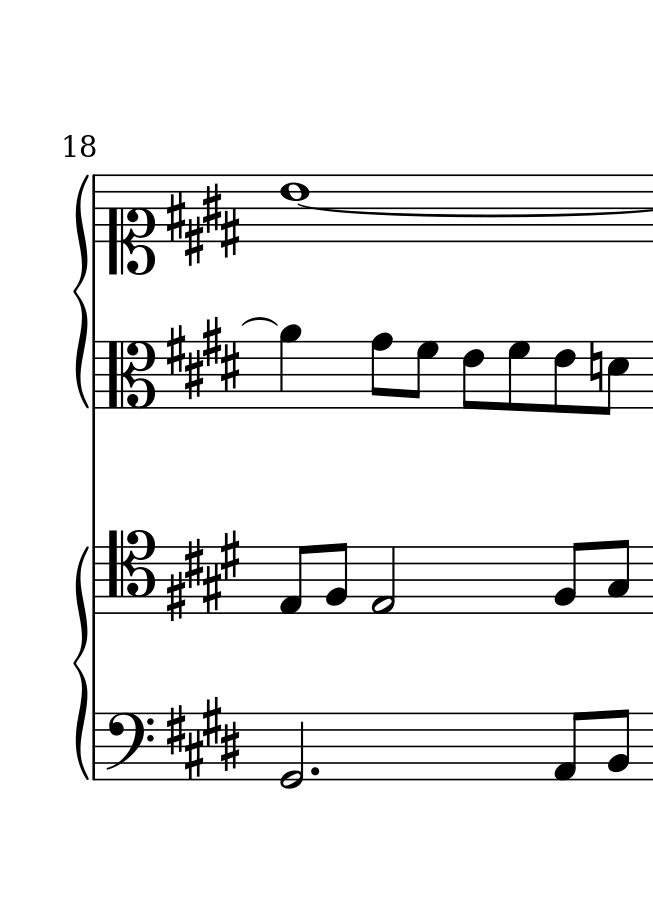1: (62, 133, 76, 159)
1_6: (279, 173, 309, 243)
2_0: (279, 711, 306, 788)
2_1: (370, 546, 398, 615)
4_9: (279, 323, 301, 409)
8: (79, 132, 96, 159)
8_1: (277, 543, 311, 616), (552, 710, 585, 782)
8_2: (554, 542, 586, 614), (606, 707, 631, 782), (325, 542, 349, 615)
8_3: (605, 539, 631, 616)
8_5: (601, 339, 630, 417)
8_6: (553, 338, 576, 417), (461, 338, 485, 411)
8_7: (409, 339, 439, 409), (506, 338, 531, 413)
8_8: (369, 331, 394, 410)
Brace: (71, 544, 91, 780), (72, 177, 92, 408)
Cclef: (106, 338, 156, 411)
E_S: (165, 526, 239, 619), (164, 696, 242, 780), (165, 183, 241, 269), (165, 318, 241, 397)
Fclef: (103, 711, 154, 782)
Natural: (588, 339, 604, 394)
Single_barline: (88, 175, 103, 243), (88, 546, 103, 614), (89, 339, 102, 410), (90, 712, 102, 780)
Slur: (242, 315, 279, 328)
Soprano_Cclef: (106, 175, 153, 274)
Tensor_Cclef: (107, 530, 155, 614)
dot: (307, 763, 321, 777)
